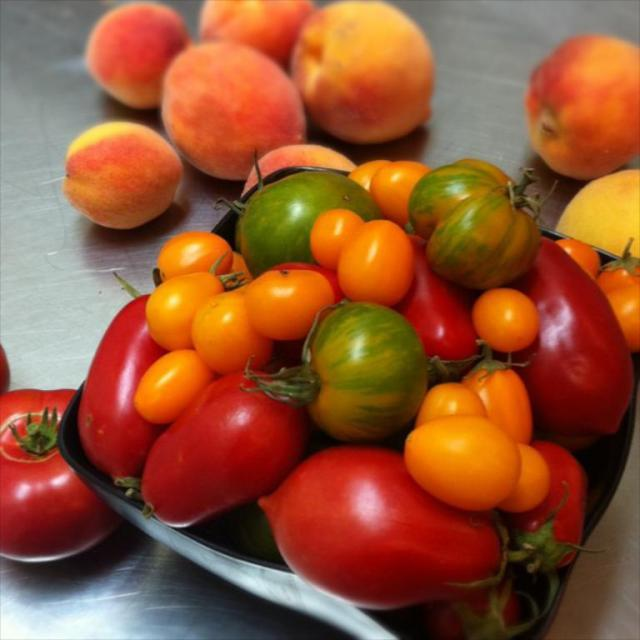Peach: (83, 0, 435, 196), (523, 32, 639, 180), (60, 119, 184, 234), (558, 169, 640, 259)
